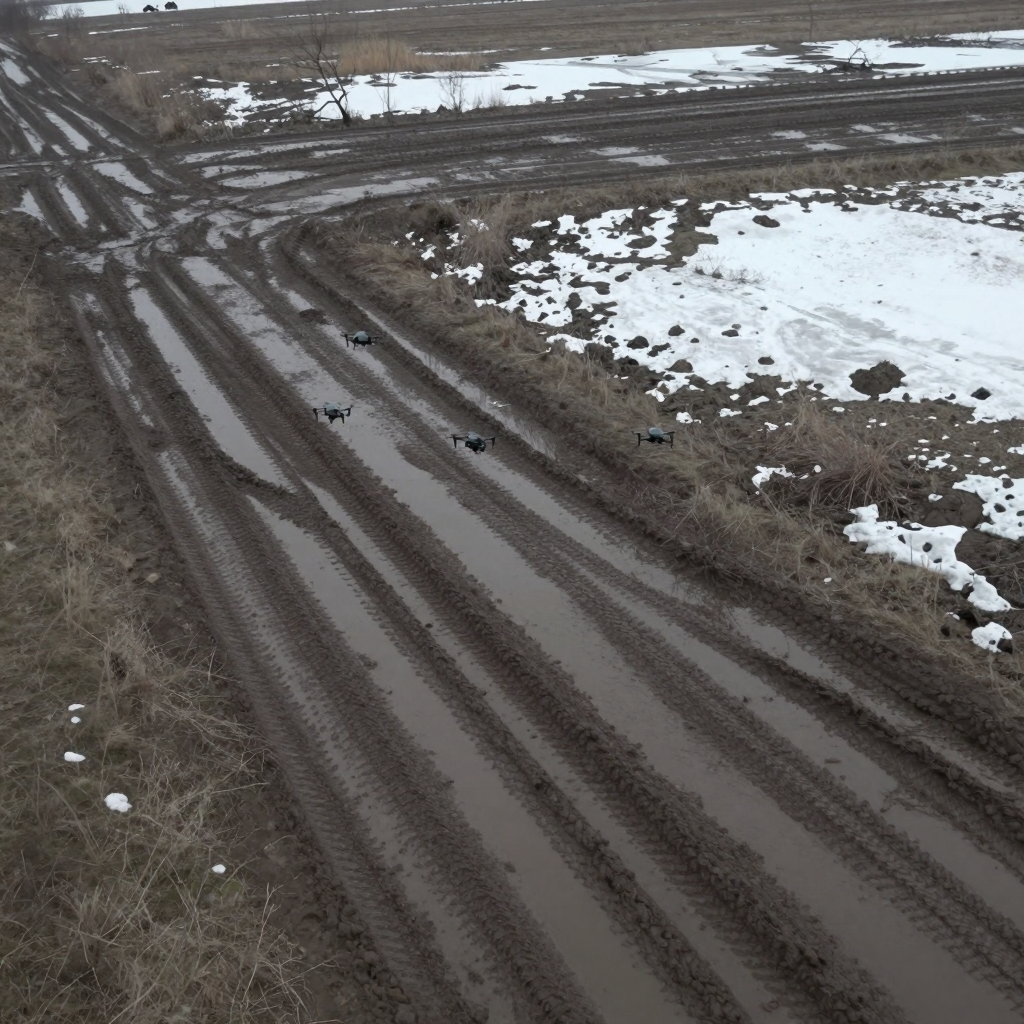drone: (336, 319, 385, 352), (312, 398, 357, 427), (448, 430, 497, 454), (632, 427, 675, 448), (719, 409, 742, 418)
